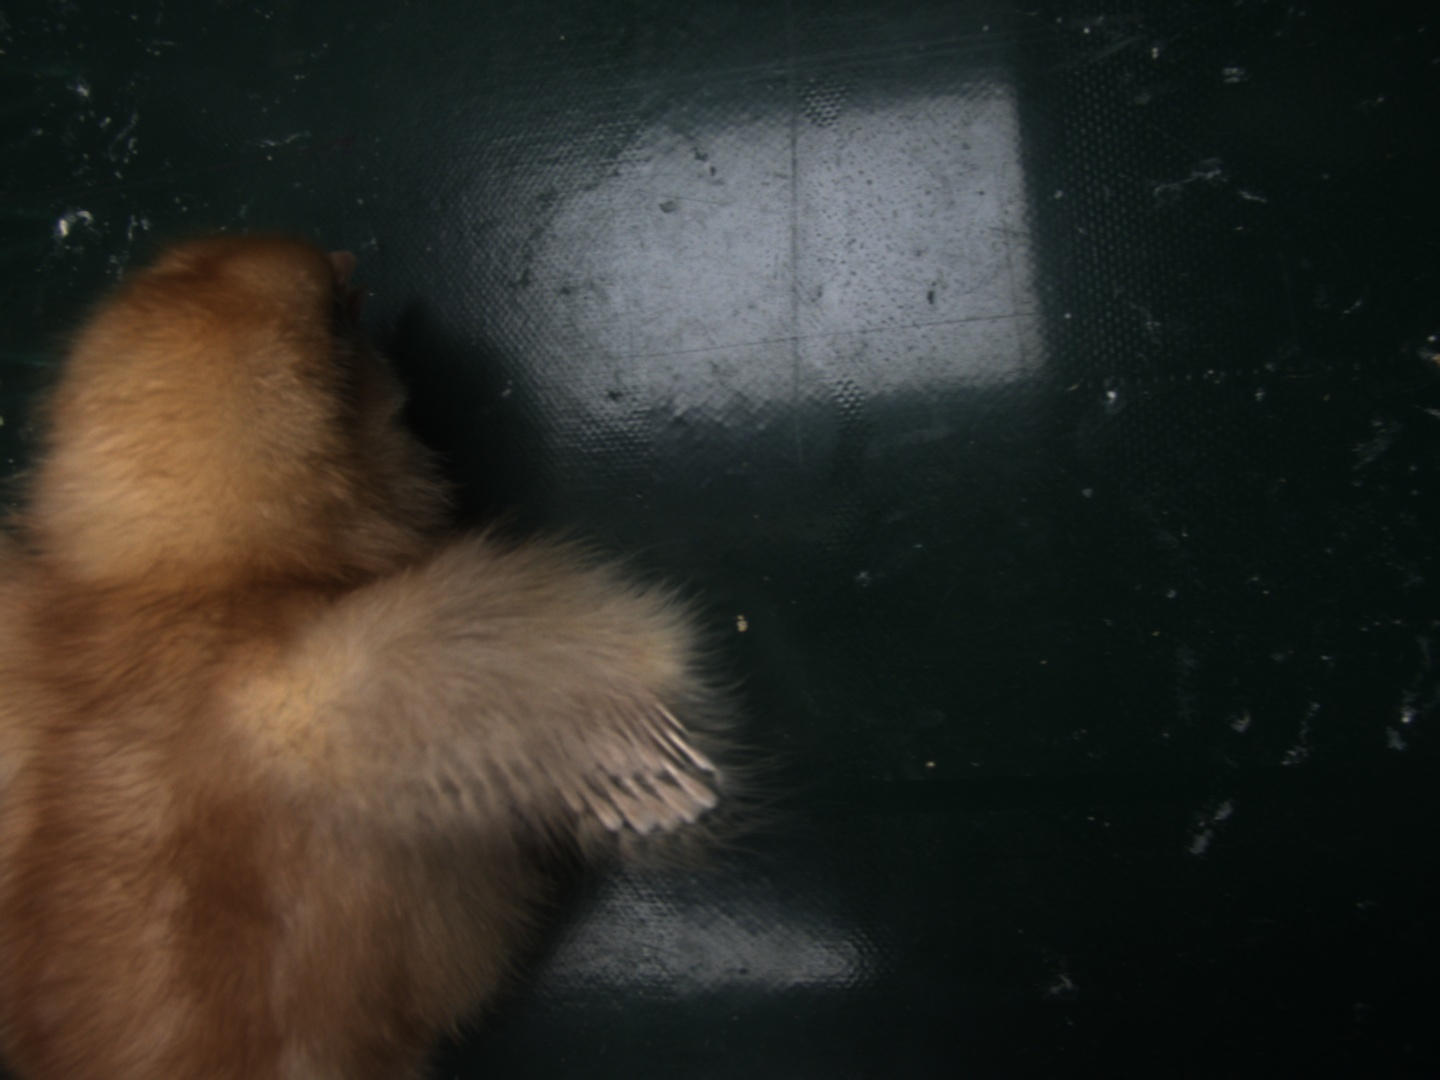female: (558, 690, 721, 836)
